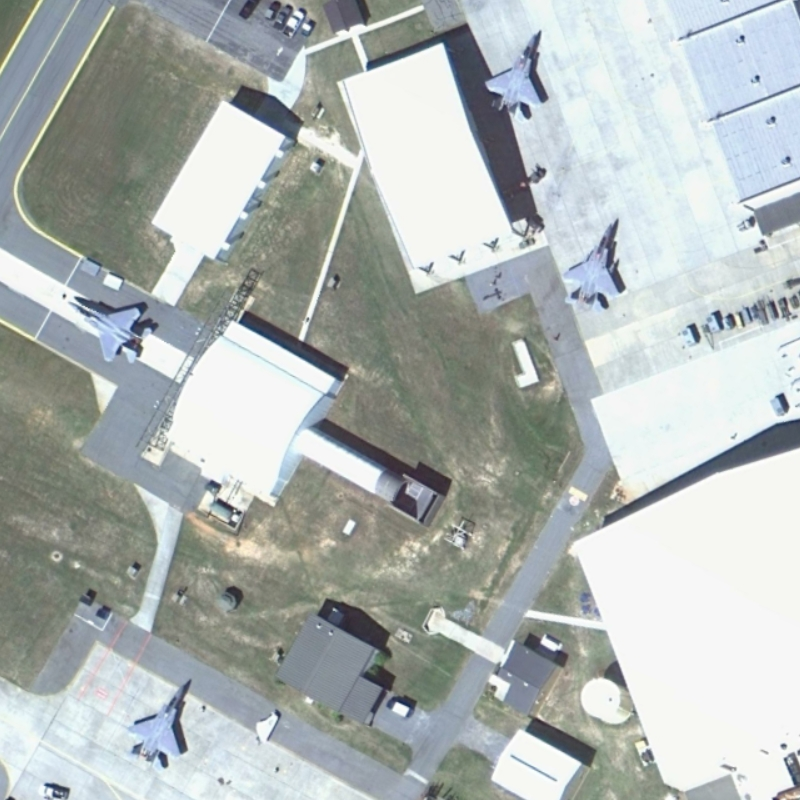A13: (56, 286, 160, 368), (553, 211, 631, 319), (474, 22, 554, 123), (118, 674, 197, 772)
